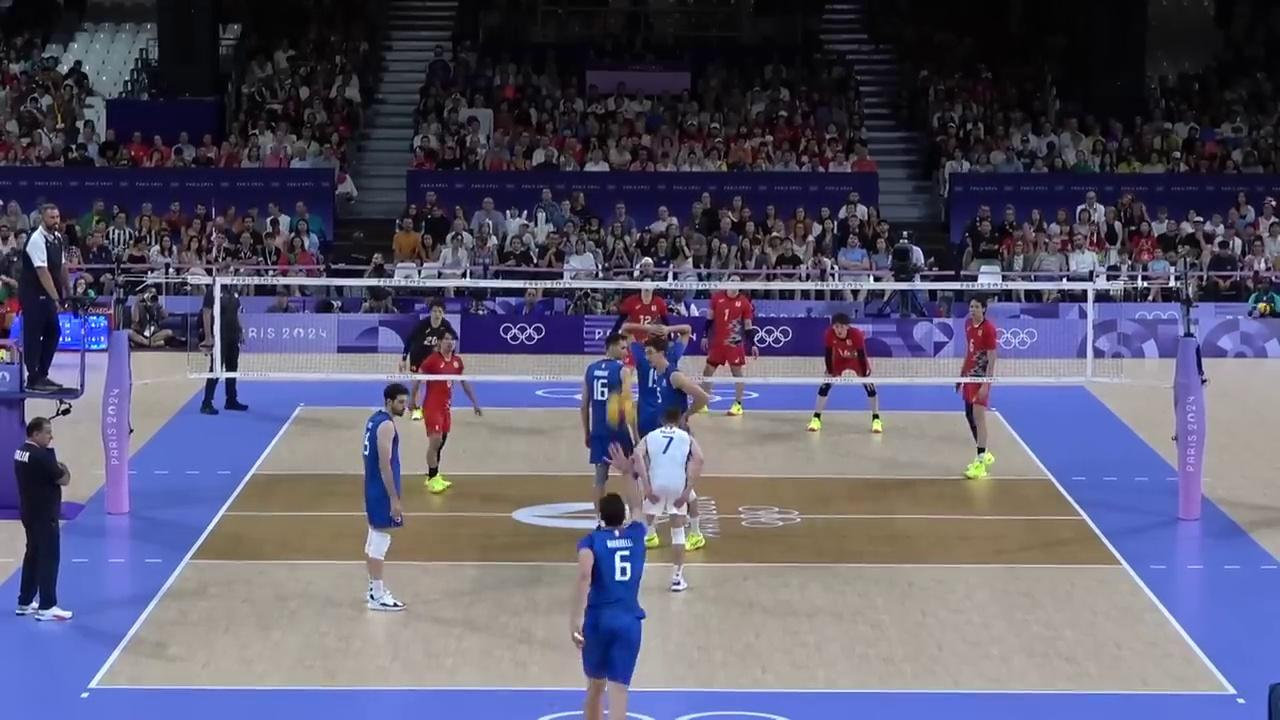ball: (608, 395, 636, 428)
